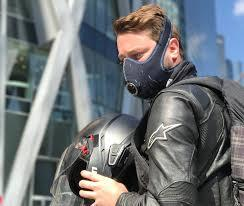Wearing Mask: (100, 0, 199, 113)
